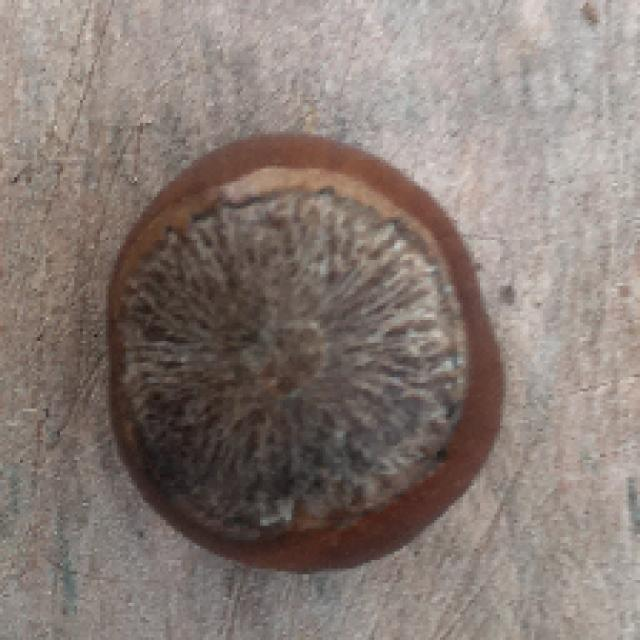qualityHazelnut: (103, 132, 510, 580)
